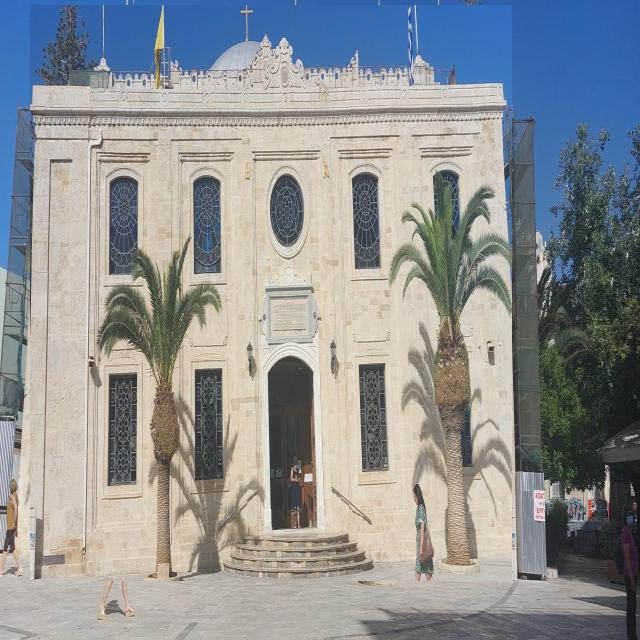Agios Titos: (31, 6, 513, 582)
